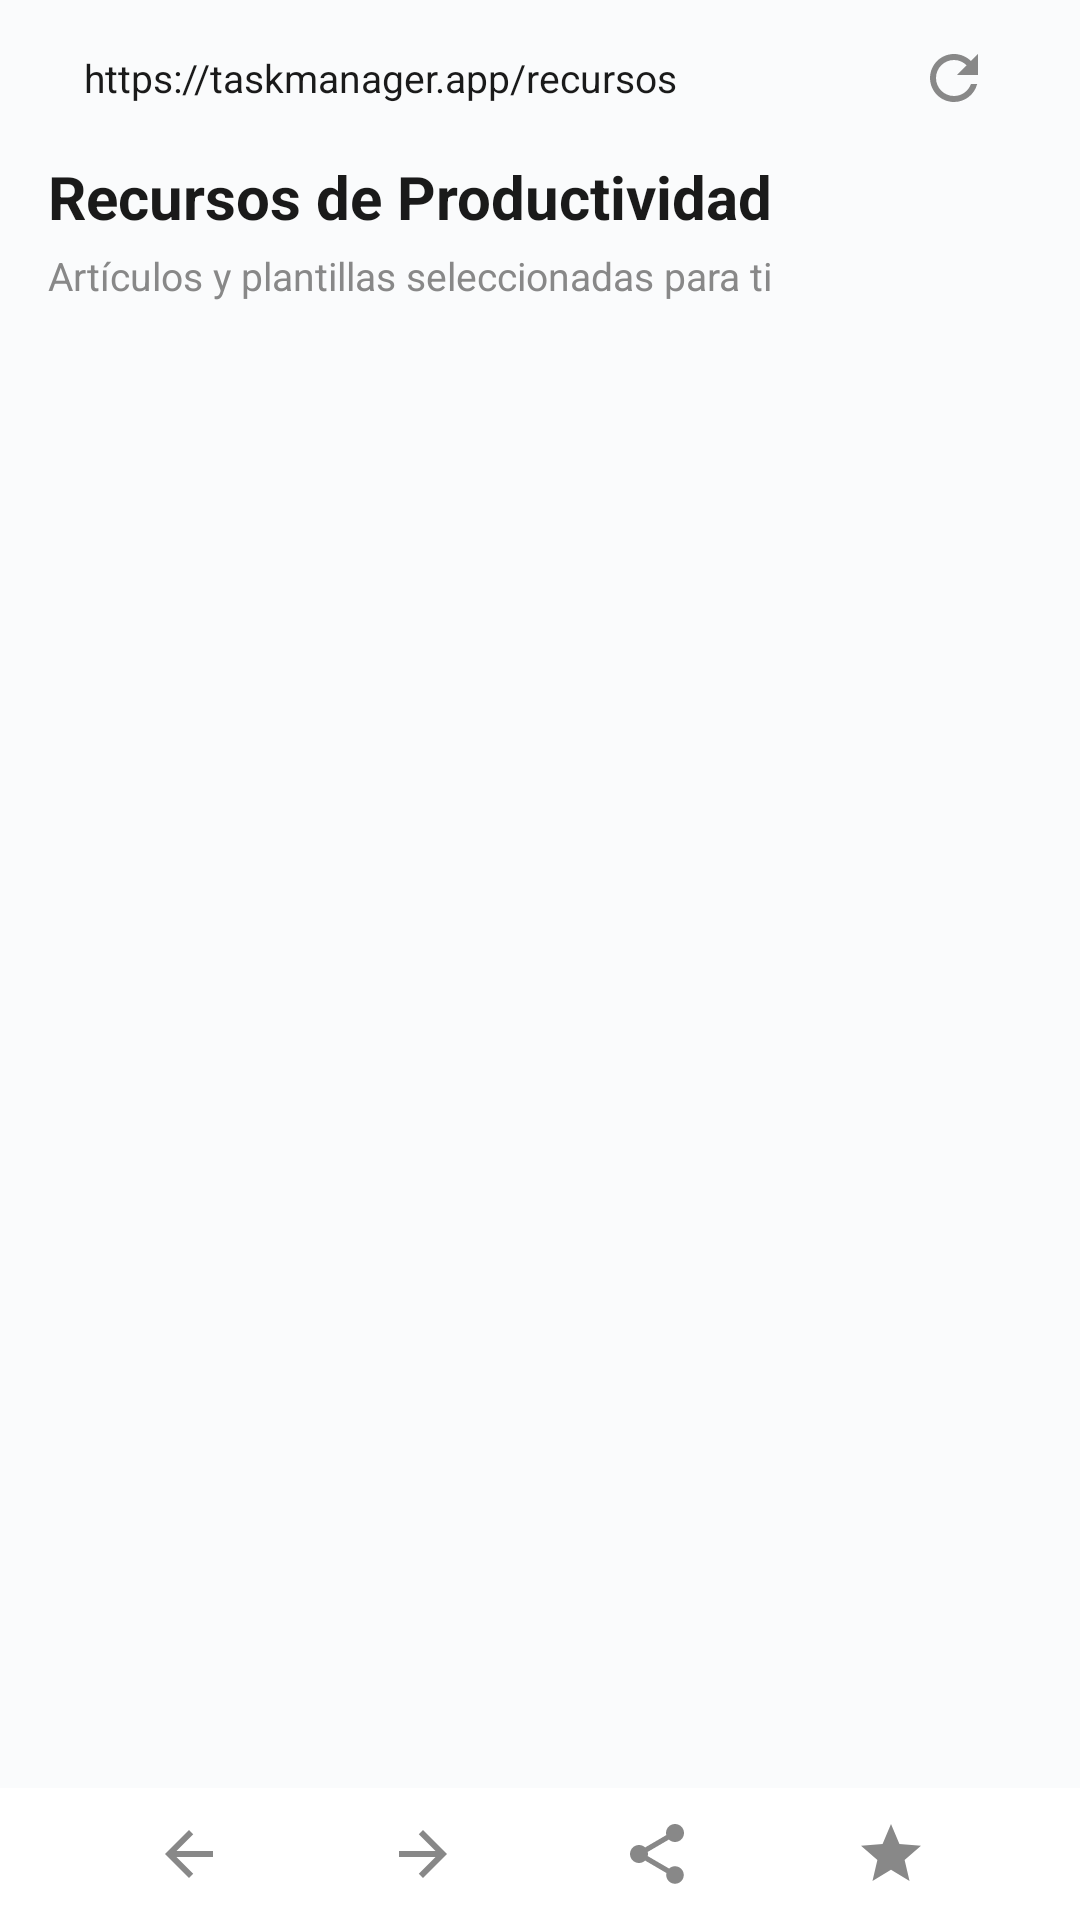

Screen size 1080x1920. Icon name, then its box in pixels as (x1, y1, x2, y2):
Adelante: (399, 1830, 447, 1878)
Atrás: (165, 1830, 213, 1878)
Compartir: (630, 1824, 684, 1884)
Favorito: (861, 1824, 921, 1881)
